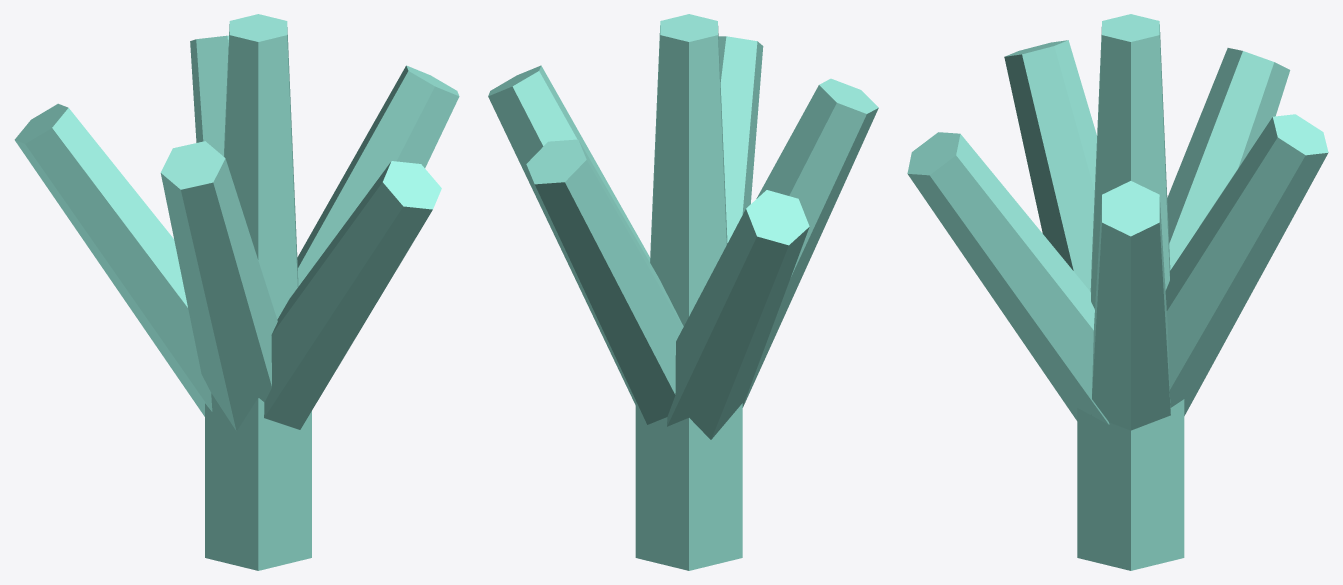
Rendered from coral_branch.glb.
3 renders of one model, left to right at view 1: azimuth 30°, elevation 25°; view 2: azimuth 150°, elevation 25°; view 3: azimuth 270°, elevation 25°, orthographic.
Parts seen in each view (by area): view 1: Trunk; view 2: Trunk; view 3: Trunk.
Part boxes in pixels (<box>): Trunk: <box>14,14,459,570</box>; Trunk: <box>488,14,878,570</box>; Trunk: <box>907,14,1328,570</box>.
Bounding box in the file's own units: 0.9134 × 1.2 × 0.8862.
